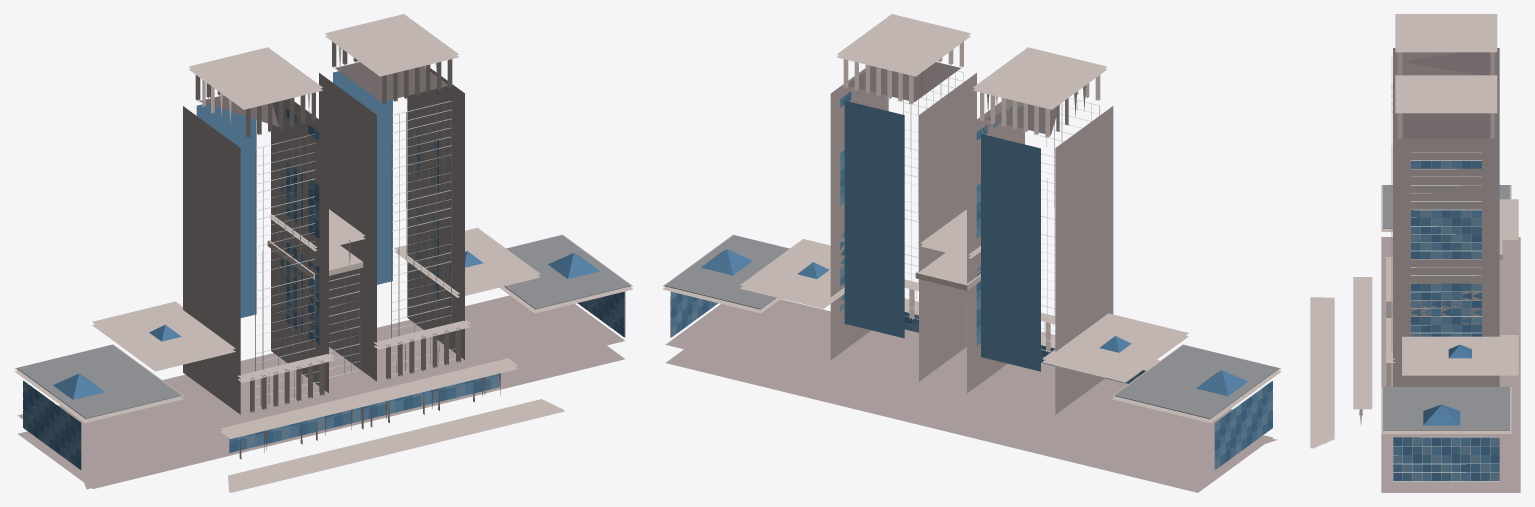
Rendered from buildings-27-medium.glb.
The picture shows the model from 3 angles, left to right: view 1: azimuth 30°, elevation 25°; view 2: azimuth 150°, elevation 25°; view 3: azimuth 270°, elevation 25°; orthographic projection. The views are drawn at different scales.
Parts seen in each view (by area): view 1: 光华楼 · Guanghua rose grey stone.001, 光华楼 · Guanghua light stone edges.001, 光华楼 · Guanghua blue glazing 1.001, 光华楼 · Guanghua roof.001, 光华楼 · Guanghua curtain wall mullions.001, 光华楼 · Guanghua blue glazing 0.001, 光华楼 · Guanghua blue glazing 3.001, 光华楼 · Guanghua blue glazing 2.001, 光华楼 · Guanghua recessed bronze.001; view 2: 光华楼 · Guanghua rose grey stone.001, 光华楼 · Guanghua blue glazing 1.001, 光华楼 · Guanghua light stone edges.001, 光华楼 · Guanghua roof.001, 光华楼 · Guanghua blue glazing 0.001, 光华楼 · Guanghua recessed bronze.001, 光华楼 · Guanghua curtain wall mullions.001, 光华楼 · Guanghua blue glazing 2.001, 光华楼 · Guanghua blue glazing 3.001; view 3: 光华楼 · Guanghua rose grey stone.001, 光华楼 · Guanghua light stone edges.001, 光华楼 · Guanghua roof.001, 光华楼 · Guanghua blue glazing 0.001, 光华楼 · Guanghua recessed bronze.001, 光华楼 · Guanghua blue glazing 3.001, 光华楼 · Guanghua blue glazing 2.001, 光华楼 · Guanghua blue glazing 1.001, 光华楼 · Guanghua curtain wall mullions.001.
Part boxes in pixels (left/top/right/bottom): 光华楼 · Guanghua rose grey stone.001: left=17, top=66, right=624, bottom=489; 光华楼 · Guanghua light stone edges.001: left=14, top=14, right=633, bottom=492; 光华楼 · Guanghua blue glazing 1.001: left=23, top=71, right=624, bottom=458; 光华楼 · Guanghua roof.001: left=17, top=235, right=630, bottom=418; 光华楼 · Guanghua curtain wall mullions.001: left=252, top=100, right=625, bottom=407; 光华楼 · Guanghua blue glazing 0.001: left=23, top=108, right=624, bottom=469; 光华楼 · Guanghua blue glazing 3.001: left=23, top=110, right=624, bottom=465; 光华楼 · Guanghua blue glazing 2.001: left=23, top=89, right=624, bottom=461; 光华楼 · Guanghua recessed bronze.001: left=199, top=62, right=447, bottom=126; 光华楼 · Guanghua rose grey stone.001: left=665, top=65, right=1277, bottom=492; 光华楼 · Guanghua blue glazing 1.001: left=671, top=100, right=1272, bottom=460; 光华楼 · Guanghua light stone edges.001: left=662, top=14, right=1281, bottom=423; 光华楼 · Guanghua roof.001: left=665, top=235, right=1279, bottom=419; 光华楼 · Guanghua blue glazing 0.001: left=671, top=91, right=1272, bottom=462; 光华楼 · Guanghua recessed bronze.001: left=848, top=62, right=1059, bottom=135; 光华楼 · Guanghua curtain wall mullions.001: left=670, top=71, right=1099, bottom=351; 光华楼 · Guanghua blue glazing 2.001: left=671, top=89, right=1272, bottom=469; 光华楼 · Guanghua blue glazing 3.001: left=671, top=95, right=1272, bottom=466; 光华楼 · Guanghua rose grey stone.001: left=1381, top=48, right=1520, bottom=492; 光华楼 · Guanghua light stone edges.001: left=1310, top=14, right=1518, bottom=448; 光华楼 · Guanghua roof.001: left=1383, top=185, right=1509, bottom=430; 光华楼 · Guanghua blue glazing 0.001: left=1393, top=161, right=1499, bottom=480; 光华楼 · Guanghua recessed bronze.001: left=1403, top=52, right=1489, bottom=138; 光华楼 · Guanghua blue glazing 3.001: left=1393, top=161, right=1499, bottom=480; 光华楼 · Guanghua blue glazing 2.001: left=1393, top=161, right=1499, bottom=480; 光华楼 · Guanghua blue glazing 1.001: left=1393, top=161, right=1499, bottom=480; 光华楼 · Guanghua curtain wall mullions.001: left=1391, top=58, right=1499, bottom=481.
Bounding box in the file's own units: 126 × 73.95 × 45.33.
